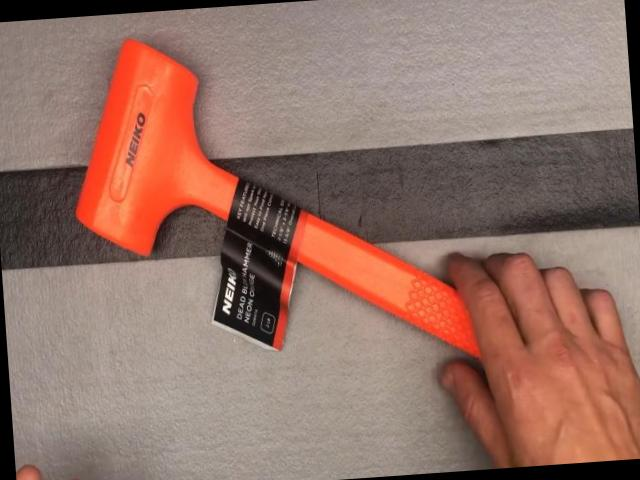hammer: (63, 6, 598, 445)
